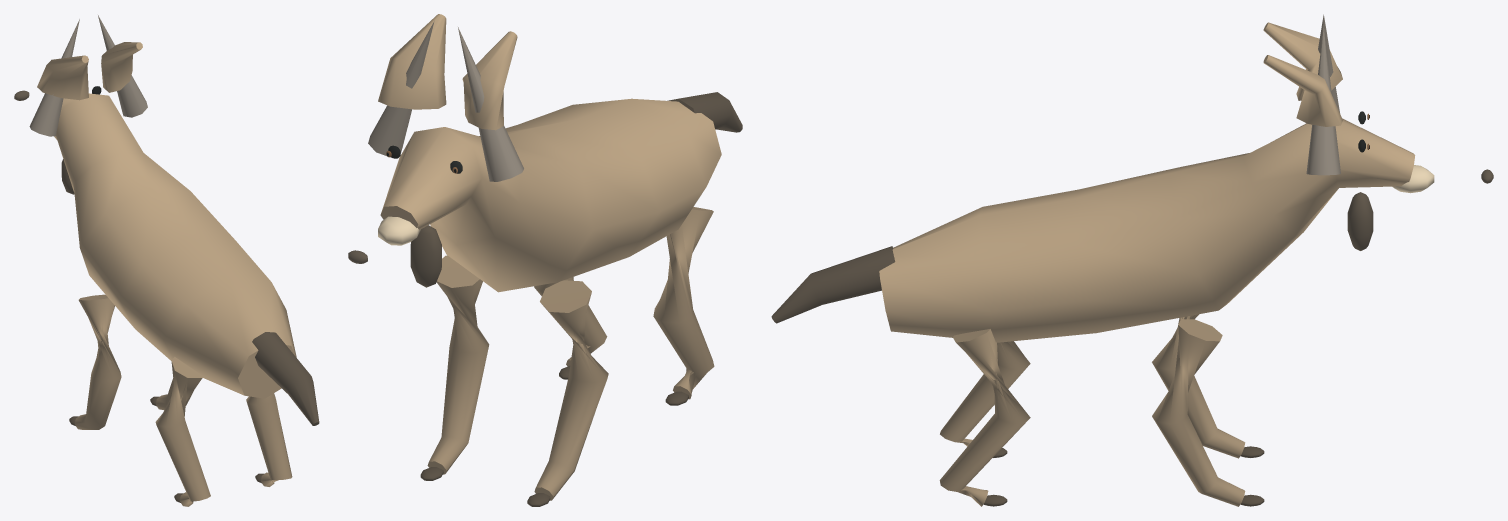
File: goat_mobile.glb
3 views of the same model, side by side, from view 1: azimuth 30°, elevation 25°; view 2: azimuth 150°, elevation 25°; view 3: azimuth 270°, elevation 25° (orthographic). The views are drawn at different scales.
Visible parts, largest first — view 1: GoatOrganicBody, Leg_LH, Leg_LF, Tail, Leg_RH, Ear, Ear2, HornDetail_L, HornDetail_R; view 2: GoatOrganicBody, Leg_LF, Leg_RF, Leg_LH, Ear2, Ear, HornDetail_L, HornDetail_R, BeardRuff, Tail, Muzzle, Leg_RH; view 3: GoatOrganicBody, Leg_RF, Leg_RH, Tail, Leg_LH, Leg_LF, Ear2, HornDetail_R, Ear, BeardRuff.
Part boxes in pixels (box(x1,y1,x2,y2)): GoatOrganicBody: box(54, 93, 296, 398); Leg_LH: box(155, 357, 210, 506); Leg_LF: box(74, 294, 121, 429); Tail: box(252, 332, 319, 425); Leg_RH: box(246, 393, 292, 486); Ear: box(37, 55, 88, 100); Ear2: box(101, 42, 142, 92); HornDetail_L: box(29, 19, 79, 136); HornDetail_R: box(98, 15, 147, 117); GoatOrganicBody: box(380, 98, 721, 292); Leg_LF: box(534, 280, 608, 500); Leg_RF: box(427, 255, 489, 474); Leg_LH: box(653, 207, 714, 399); Ear2: box(378, 14, 446, 109); Ear: box(462, 31, 517, 130); HornDetail_L: box(458, 27, 523, 181); HornDetail_R: box(368, 21, 434, 155); BeardRuff: box(410, 225, 441, 287); Tail: box(667, 92, 742, 132); Muzzle: box(378, 216, 420, 245); Leg_RH: box(534, 277, 607, 366); GoatOrganicBody: box(879, 118, 1415, 342); Leg_RF: box(1152, 319, 1245, 506); Leg_RH: box(939, 329, 1030, 506); Tail: box(771, 246, 895, 323); Leg_LH: box(940, 341, 1030, 446); Leg_LF: box(1152, 314, 1245, 458); Ear2: box(1263, 55, 1342, 126); HornDetail_R: box(1306, 25, 1340, 175); Ear: box(1263, 22, 1342, 100); BeardRuff: box(1347, 192, 1373, 250).
Size of the model in its own units: 0.96 by 2.65 by 3.75.
